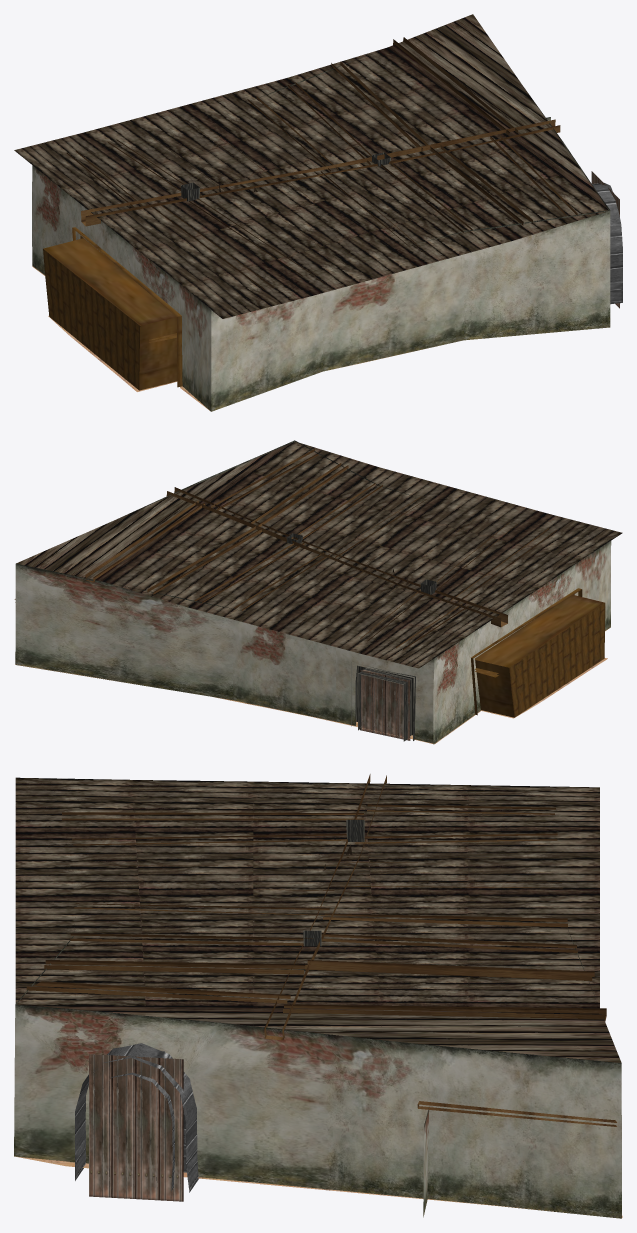
File: interior_tavern_c.fbx
The picture shows the model from 3 angles, top to bottom: view 1: azimuth 30°, elevation 25°; view 2: azimuth 150°, elevation 25°; view 3: azimuth 270°, elevation 25°; orthographic projection. The views are drawn at different scales.
Visible parts, largest first — view 1: ceiling, TavernWall, alcoveB, wood_planks, bar_wallB, door_frame_2; view 2: ceiling, TavernWall, alcoveB, bar_wallB, wood_planks, door_hole_1, door_frame_1, floor; view 3: ceiling, TavernWall, wood_planks, door_hole_2, door_frame_2, alcove_roof, floor.
Boxes of the visible parts, x1,y1,x2,y2 form: ceiling: [14, 14, 608, 318]; TavernWall: [211, 50, 610, 411]; alcoveB: [43, 227, 182, 390]; wood_planks: [66, 37, 577, 289]; bar_wallB: [32, 165, 211, 411]; door_frame_2: [592, 183, 622, 304]; ceiling: [16, 441, 622, 668]; TavernWall: [15, 440, 609, 743]; alcoveB: [471, 588, 605, 717]; bar_wallB: [433, 540, 611, 744]; wood_planks: [85, 449, 556, 649]; door_hole_1: [360, 670, 410, 740]; door_frame_1: [351, 662, 415, 741]; floor: [15, 629, 607, 744]; ceiling: [15, 777, 621, 1062]; TavernWall: [14, 782, 621, 1218]; wood_planks: [26, 774, 606, 1040]; door_hole_2: [89, 1054, 183, 1201]; door_frame_2: [75, 1043, 198, 1192]; alcove_roof: [417, 1101, 616, 1126]; floor: [16, 1156, 622, 1217].
Size of what is drawn, in the model's own units: 9641 by 2347 by 7502.
Materials: 3 (3 with a texture image).
